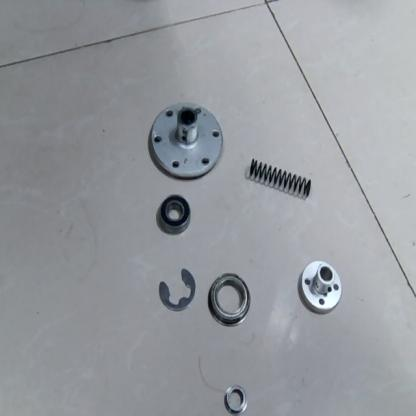FOD: (147, 98, 223, 187), (247, 151, 318, 201), (206, 269, 254, 330), (298, 254, 346, 314), (155, 265, 197, 313), (158, 190, 190, 238), (224, 383, 248, 414)
